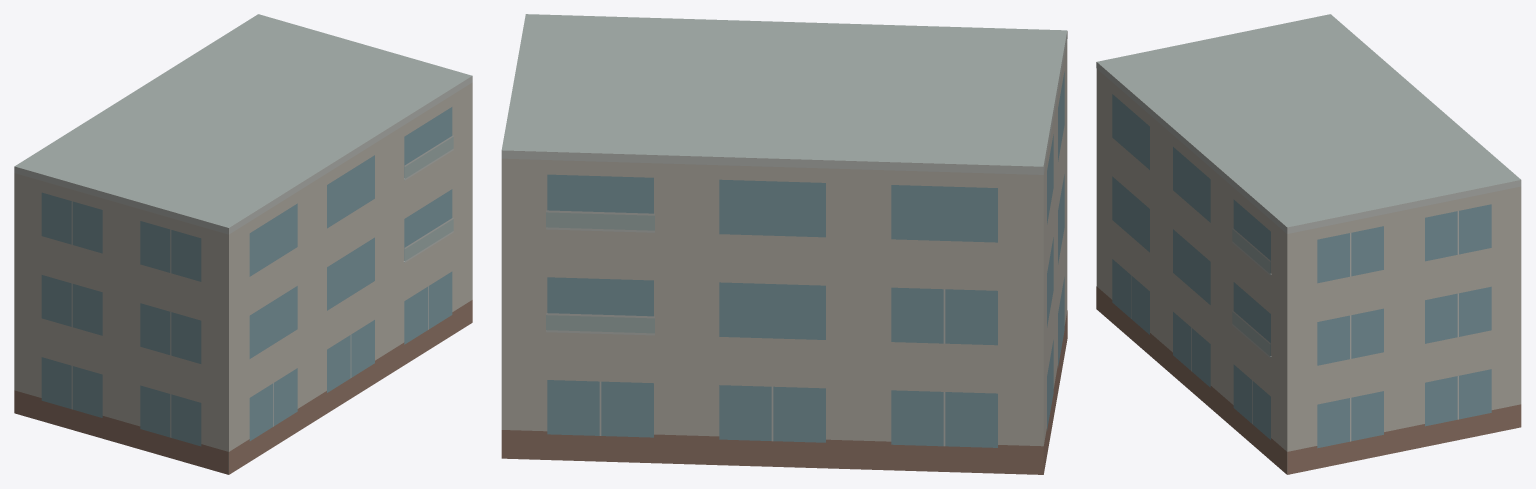
Rendered from survey-upis-32705811.glb.
3 renders of one model, left to right at view 1: azimuth 30°, elevation 25°; view 2: azimuth 150°, elevation 25°; view 3: azimuth 270°, elevation 25°, orthographic. The views are drawn at different scales.
Parts seen in each view (by area): view 1: survey-upis-32705811.tmp; view 2: survey-upis-32705811.tmp; view 3: survey-upis-32705811.tmp.
Part boxes in pixels (left/top/right/bottom): survey-upis-32705811.tmp: left=14, top=14, right=472, bottom=474; survey-upis-32705811.tmp: left=501, top=14, right=1067, bottom=474; survey-upis-32705811.tmp: left=1096, top=14, right=1521, bottom=474.
Bounding box in the file's own units: 16.94 × 9.15 × 14.25.
